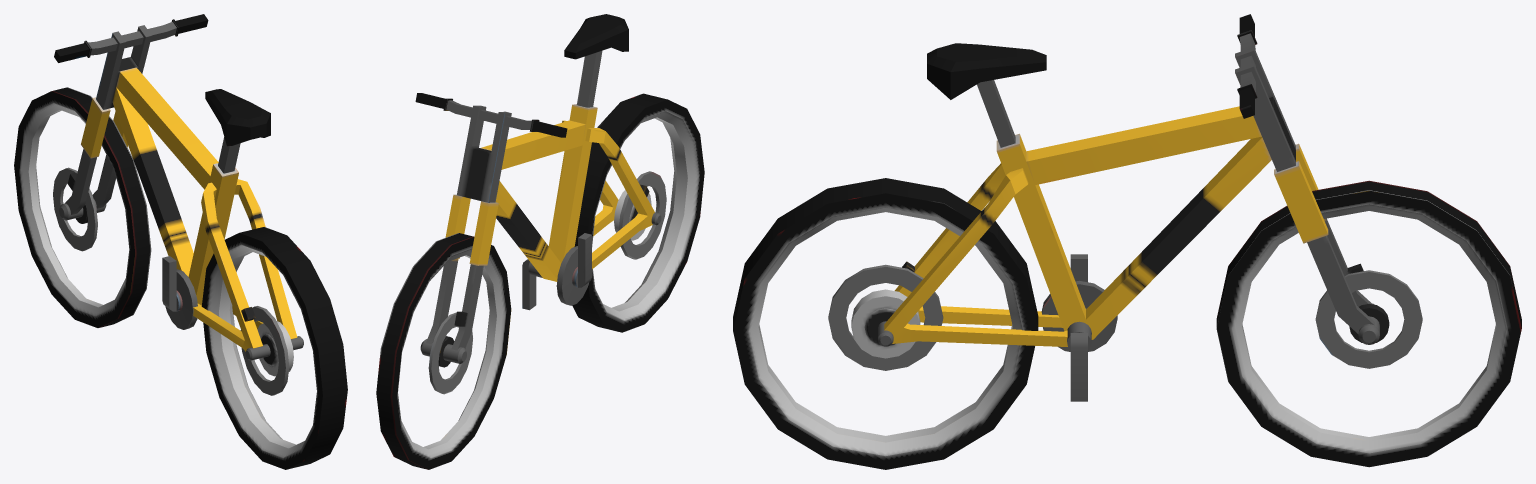
Rendered from trail.glb.
The picture shows the model from 3 angles, left to right: view 1: azimuth 30°, elevation 25°; view 2: azimuth 150°, elevation 25°; view 3: azimuth 270°, elevation 25°; orthographic projection. The views are drawn at different scales.
Parts seen in each view (by area): view 1: body-0, wheel-back-x, wheel-front-x, body-1, body-3; view 2: wheel-back-x, body-0, wheel-front-x, body-1, body-3; view 3: body-0, wheel-back-x, wheel-front-x, body-1, body-3.
Boxes of the visible parts, x1,y1,x2,y2 form: body-0: (112, 67, 297, 351); wheel-back-x: (201, 227, 347, 469); wheel-front-x: (14, 87, 151, 327); body-1: (54, 14, 208, 214); body-3: (162, 256, 197, 329); wheel-back-x: (572, 93, 704, 332); body-0: (480, 14, 654, 281); wheel-front-x: (376, 233, 511, 469); body-1: (415, 93, 567, 350); body-3: (522, 233, 591, 310); body-0: (884, 43, 1271, 346); wheel-back-x: (733, 178, 1038, 469); wheel-front-x: (1216, 180, 1521, 467); body-1: (1235, 14, 1374, 333); body-3: (1041, 254, 1117, 401).
Bounding box in the file's own units: 0.6564 × 1.38 × 2.4.
Materials: 5 (5 with a texture image).
